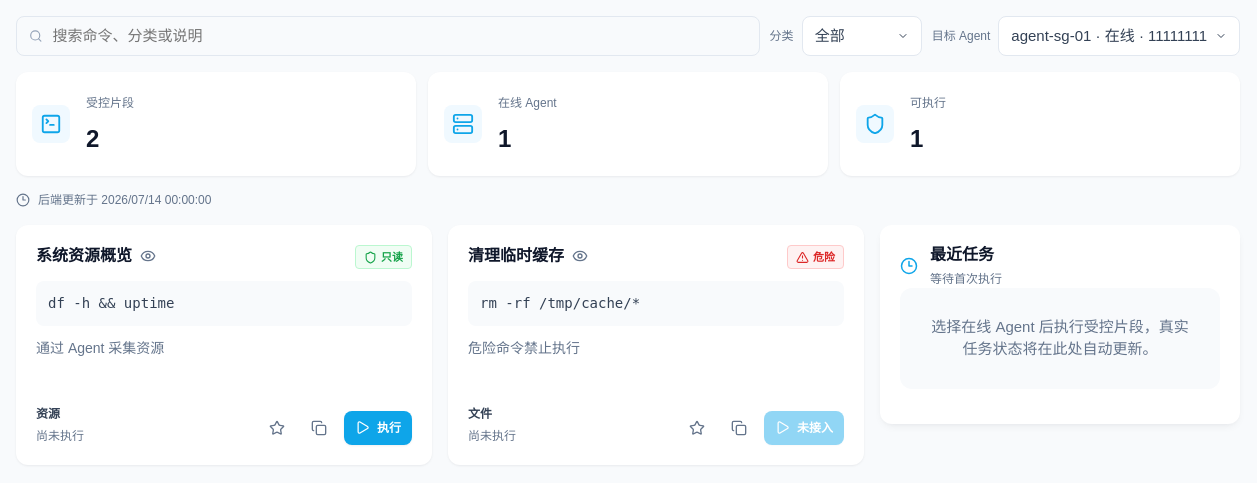
Scenario: terminal snippets real backend page › loads Controller snippets and persists favorite state
Expected: the text "系统资源概览" is shown, [36, 245, 132, 267]
Click the button named "收藏 系统资源概览": (277, 428) [260, 411, 294, 445]
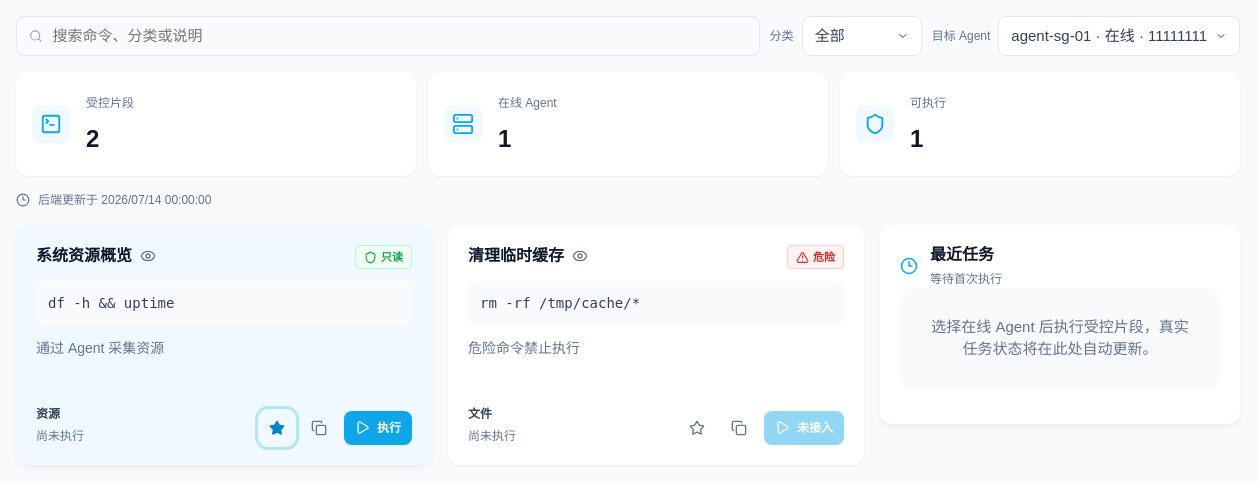
Now the button named "取消收藏 系统资源概览" is shown, box [260, 411, 294, 445]
